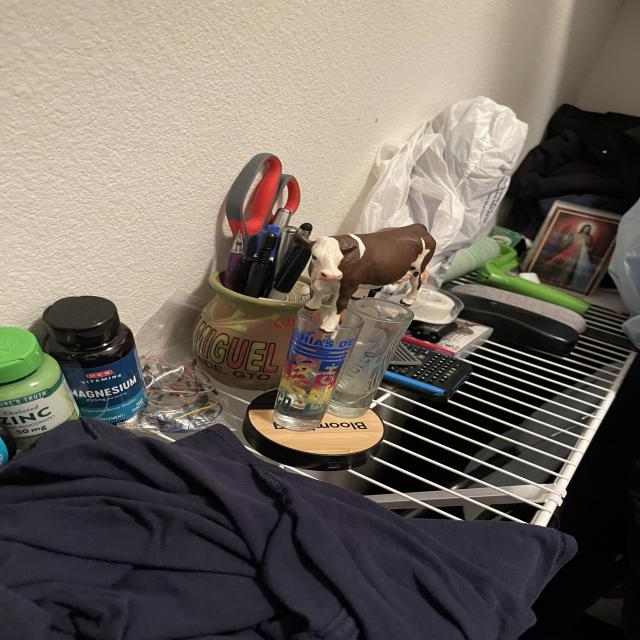cow: (292, 189, 447, 319)
